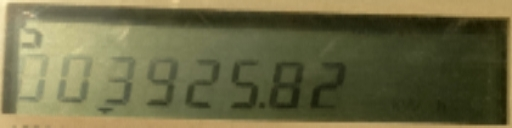0: (9, 48, 51, 105), (58, 46, 93, 105)
2: (182, 50, 219, 111), (312, 58, 348, 113)
3: (105, 51, 137, 107)
5: (230, 55, 261, 113)
8: (270, 55, 305, 109)
9: (144, 56, 180, 109)
d: (257, 96, 268, 111)
